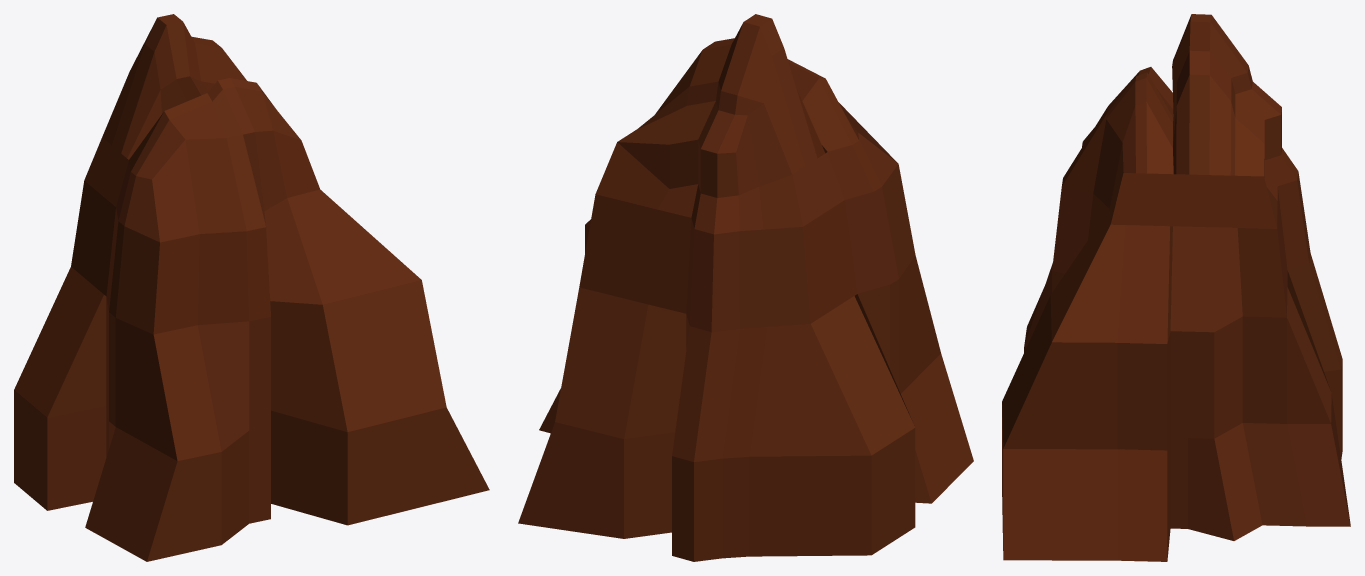
The model's file is Mountain_1.FBX.
The picture shows the model from 3 angles, left to right: view 1: azimuth 30°, elevation 25°; view 2: azimuth 150°, elevation 25°; view 3: azimuth 270°, elevation 25°; orthographic projection. The views are drawn at different scales.
Visible parts, largest first — view 1: Mountain_1; view 2: Mountain_1; view 3: Mountain_1.
Part boxes in pixels (x1=…): Mountain_1: x1=14, y1=14, x2=489, y2=561; Mountain_1: x1=518, y1=14, x2=973, y2=561; Mountain_1: x1=1002, y1=14, x2=1350, y2=561.
Bounding box in the file's own units: 53.58 × 64.55 × 46.54.
